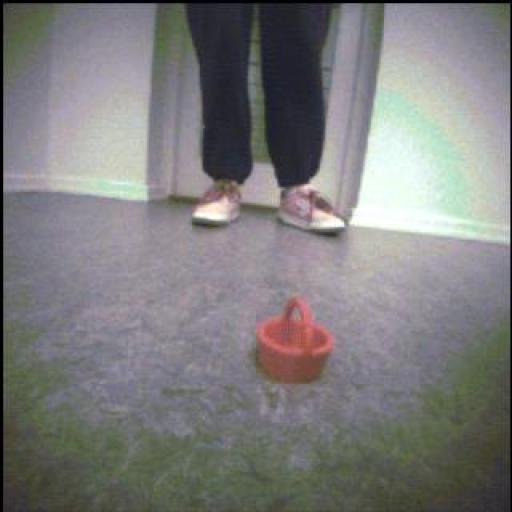Bucket: (259, 299, 334, 384)
